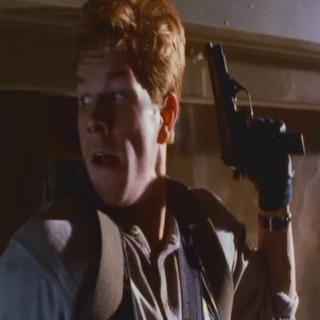gun: (202, 36, 309, 166)
